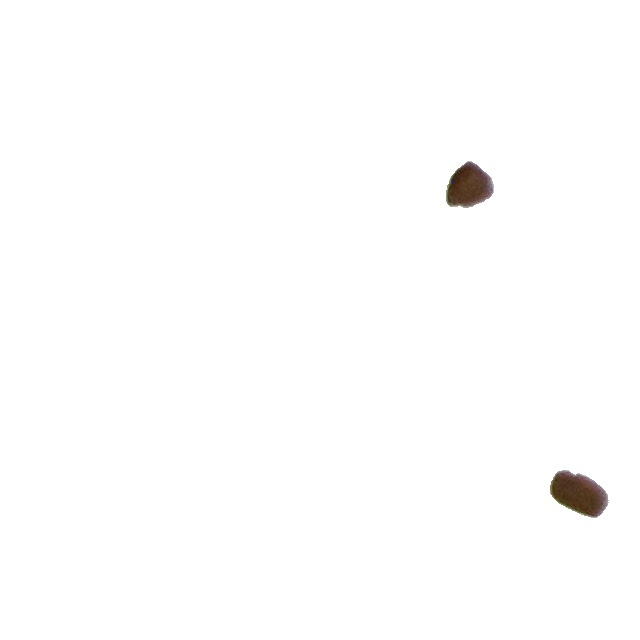buckwheat: (549, 469, 610, 519), (445, 160, 495, 209)
